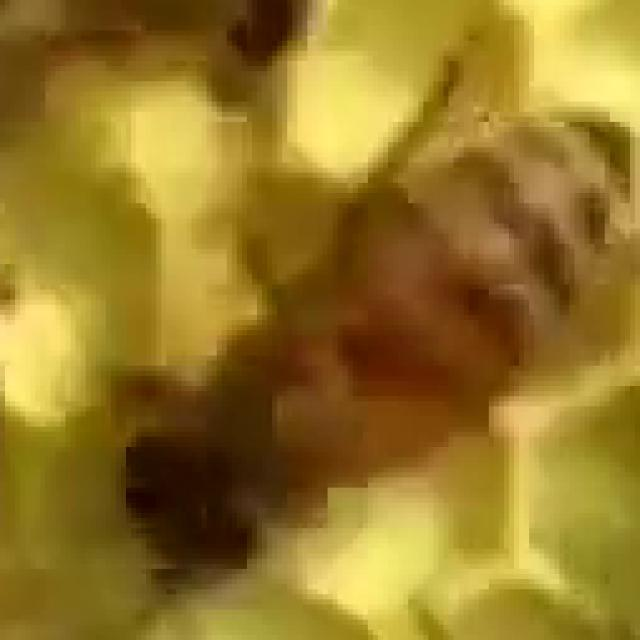honeybee: (92, 68, 640, 598)
